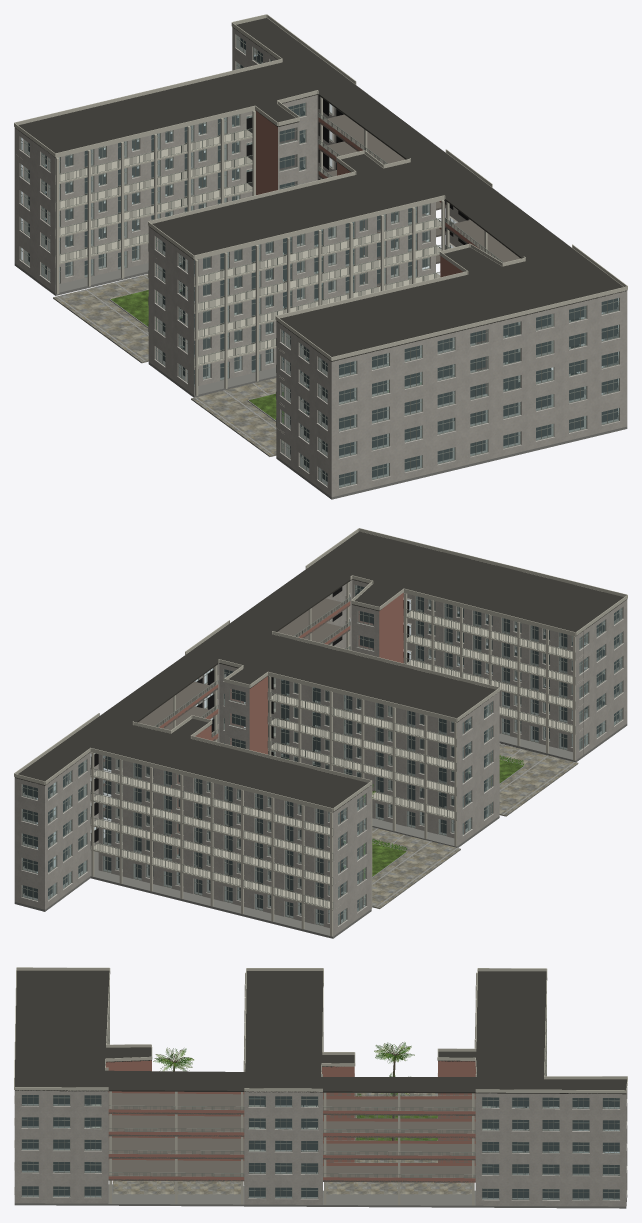
The model's file is south_classrooms.glb.
3 views of the same model, one above another, from view 1: azimuth 30°, elevation 25°; view 2: azimuth 150°, elevation 25°; view 3: azimuth 270°, elevation 25° (orthographic). The views are drawn at different scales.
Visible parts, largest first — view 1: south_classrooms.rooms, south_classrooms.mapped_plates, south_classrooms.gallery_edges, south_classrooms.court_floors, south_classrooms.court_bridges; view 2: south_classrooms.rooms, south_classrooms.mapped_plates, south_classrooms.gallery_edges, south_classrooms.court_floors, south_classrooms.court_bridges; view 3: south_classrooms.mapped_plates, south_classrooms.rooms, south_classrooms.court_bridges, south_classrooms.court_floors, south_classrooms.gallery_edges.
Part boxes in pixels (left/top/right/bottom): south_classrooms.rooms: left=14, top=27, right=627, bottom=497; south_classrooms.mapped_plates: left=14, top=14, right=627, bottom=499; south_classrooms.gallery_edges: left=21, top=109, right=444, bottom=426; south_classrooms.court_floors: left=53, top=244, right=537, bottom=456; south_classrooms.court_bridges: left=318, top=96, right=570, bottom=375; south_classrooms.rooms: left=14, top=579, right=627, bottom=936; south_classrooms.mapped_plates: left=14, top=528, right=627, bottom=938; south_classrooms.gallery_edges: left=90, top=592, right=583, bottom=936; south_classrooms.court_floors: left=177, top=710, right=578, bottom=908; south_classrooms.court_bridges: left=103, top=582, right=350, bottom=819; south_classrooms.mapped_plates: left=14, top=967, right=627, bottom=1208; south_classrooms.rooms: left=14, top=1060, right=627, bottom=1206; south_classrooms.court_bridges: left=108, top=1091, right=475, bottom=1205; south_classrooms.court_floors: left=112, top=1042, right=471, bottom=1194; south_classrooms.gallery_edges: left=92, top=972, right=546, bottom=1184.
Size of the model in its own units: 41.22 by 18.29 by 85.99.
18 materials, 3 textured.
